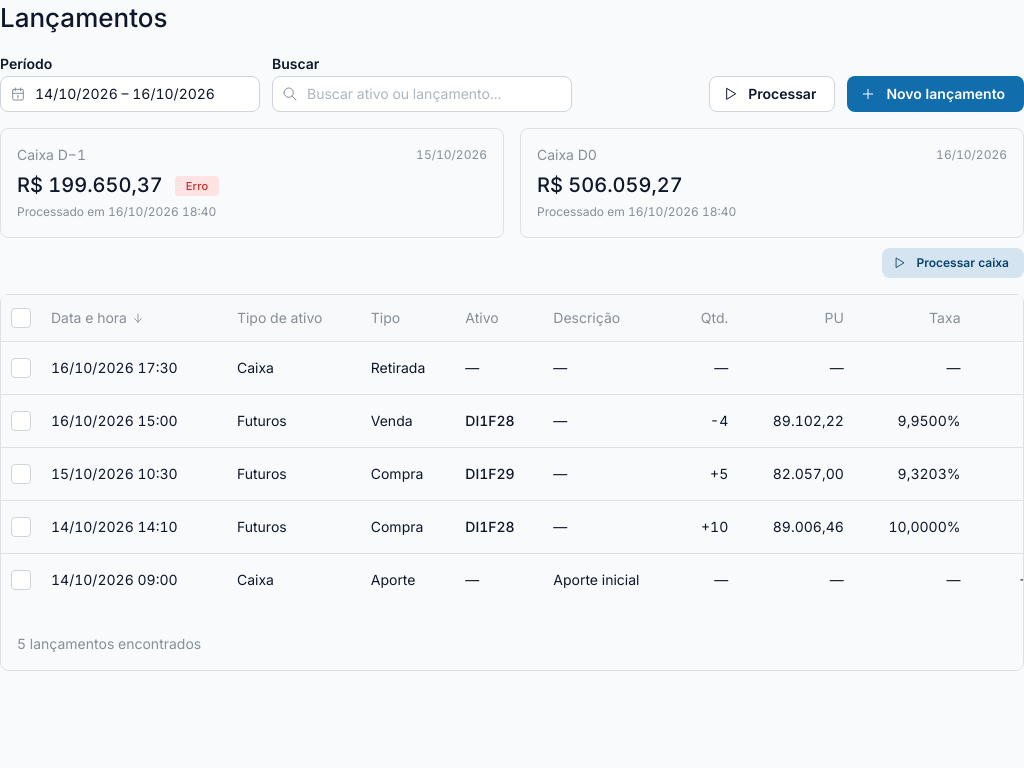
Test case: Lançamentos (§11.3) › cash strip (OQ-19 item 3) › OQ-23 "Processar caixa" from a failed Caixa D−1 covers D−1 to D0, scope Caixa
Expected: the text "5 lançamentos encontrados" is shown, top-left (17, 635), bottom-right (201, 652)
Click the button "Processar caixa": coordinates (953, 263) top-left (882, 248), bottom-right (1023, 278)
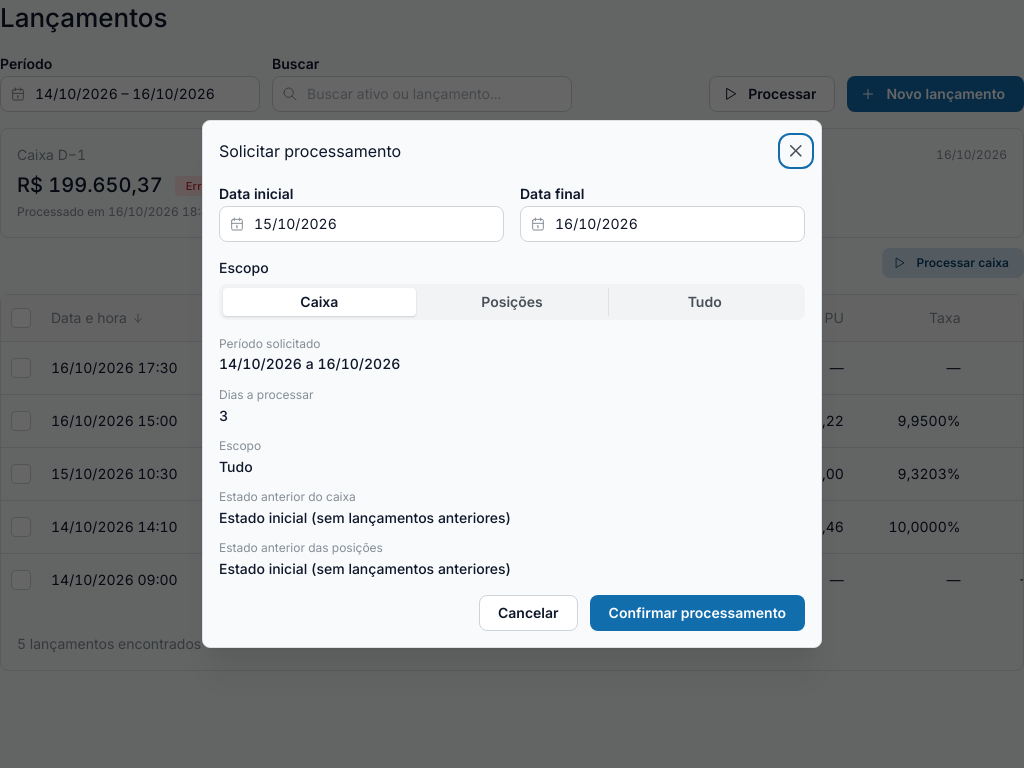
Expected: the field labelled "Data inicial" holds "15/10/2026", top-left (219, 206), bottom-right (504, 242)
Expected: the field labelled "Data final" holds "16/10/2026", top-left (520, 206), bottom-right (805, 242)
Expected: the radio button labelled "Caixa" is checked, top-left (300, 293), bottom-right (338, 310)
